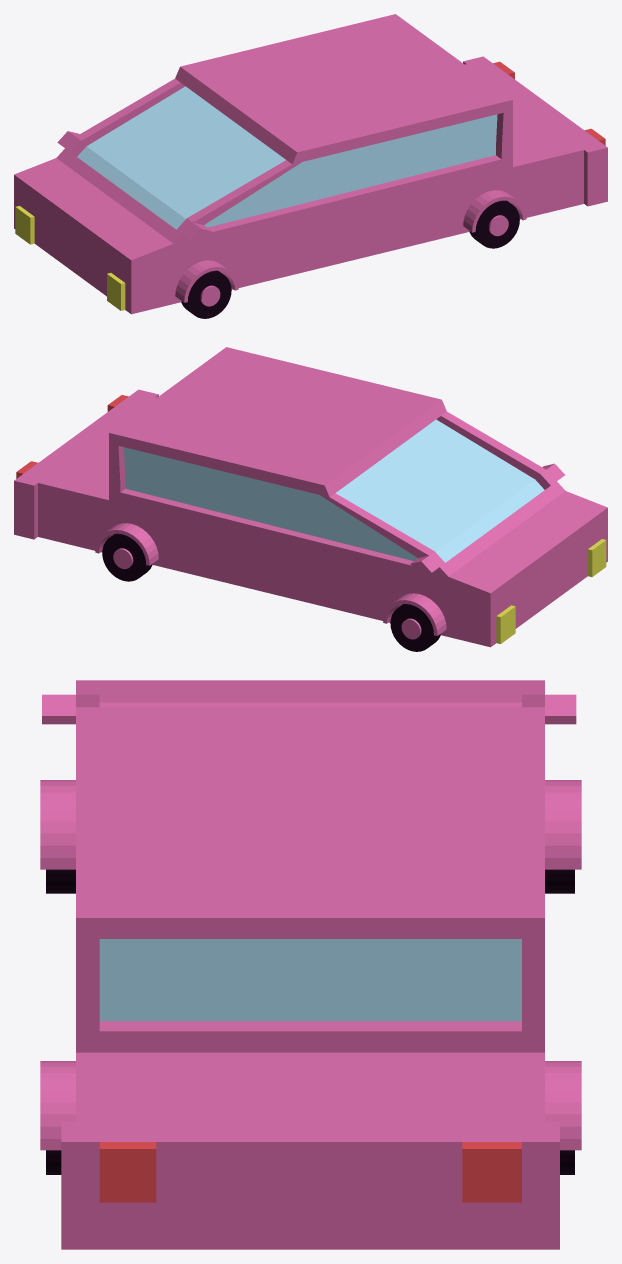
The model's file is PinkCar.fbx.
The picture shows the model from 3 angles, top to bottom: view 1: azimuth 30°, elevation 25°; view 2: azimuth 150°, elevation 25°; view 3: azimuth 270°, elevation 25°; orthographic projection. The views are drawn at different scales.
Parts seen in each view (by area): view 1: Cube, Cylinder, Cylinder.002, Cylinder.001; view 2: Cube, Cylinder, Cylinder.002, Cylinder.001; view 3: Cube, Cylinder.002, Cylinder.
Boxes of the visible parts, <box> form: Cube: <box>14,14,607,314</box>; Cylinder: <box>181,200,519,318</box>; Cylinder.002: <box>175,190,526,302</box>; Cylinder.001: <box>200,215,508,306</box>; Cube: <box>14,347,607,647</box>; Cylinder: <box>102,533,440,651</box>; Cylinder.002: <box>95,523,446,635</box>; Cylinder.001: <box>113,548,421,639</box>; Cube: <box>42,680,576,1249</box>; Cylinder.002: <box>40,780,581,1150</box>; Cylinder: <box>46,869,574,1174</box>.
Bounding box in the file's own units: 625 × 169 × 302.
